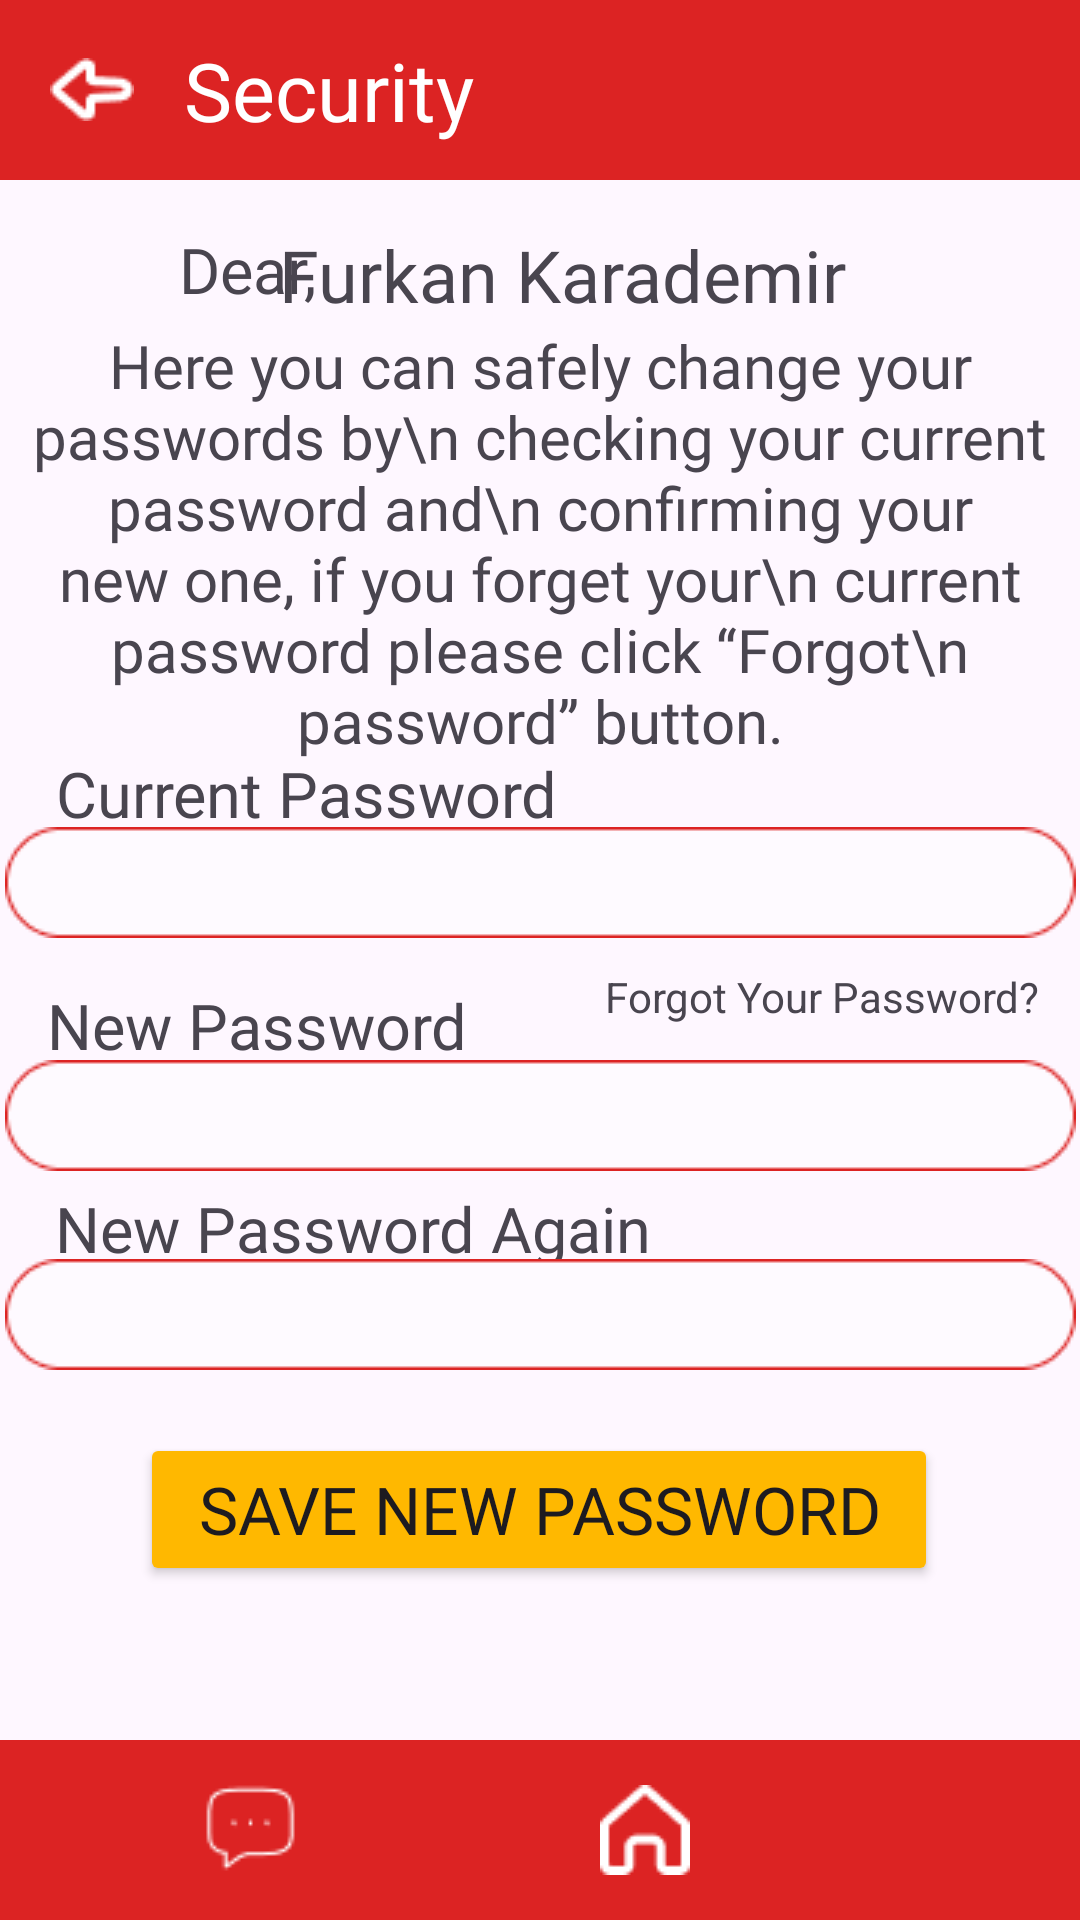

Screen size 1080px×1920px. Icon name, then its center in pixels as point (x, y):
chat: point (250, 1828)
